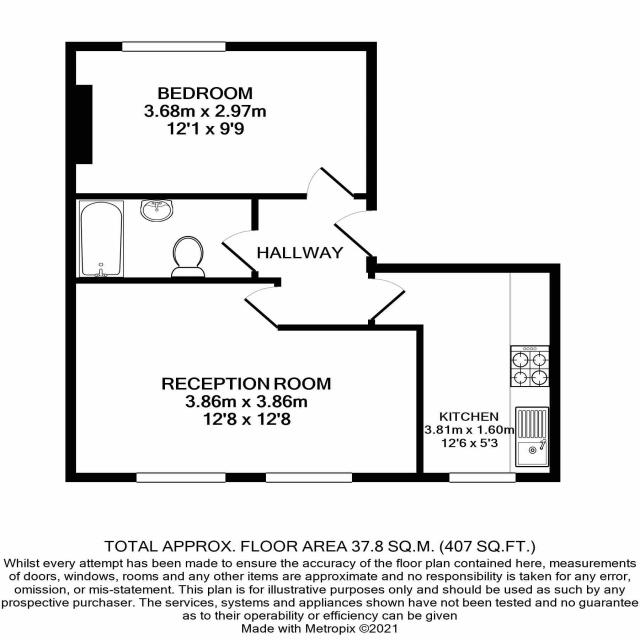DOOR: (329, 208, 378, 258), (366, 276, 411, 322), (240, 284, 282, 333), (216, 228, 260, 273), (305, 164, 356, 200)
ROOM: (65, 276, 424, 483), (64, 41, 377, 200), (365, 263, 561, 483)
WINDOW: (121, 40, 227, 53), (135, 471, 227, 484), (264, 472, 354, 484), (447, 471, 517, 484)
